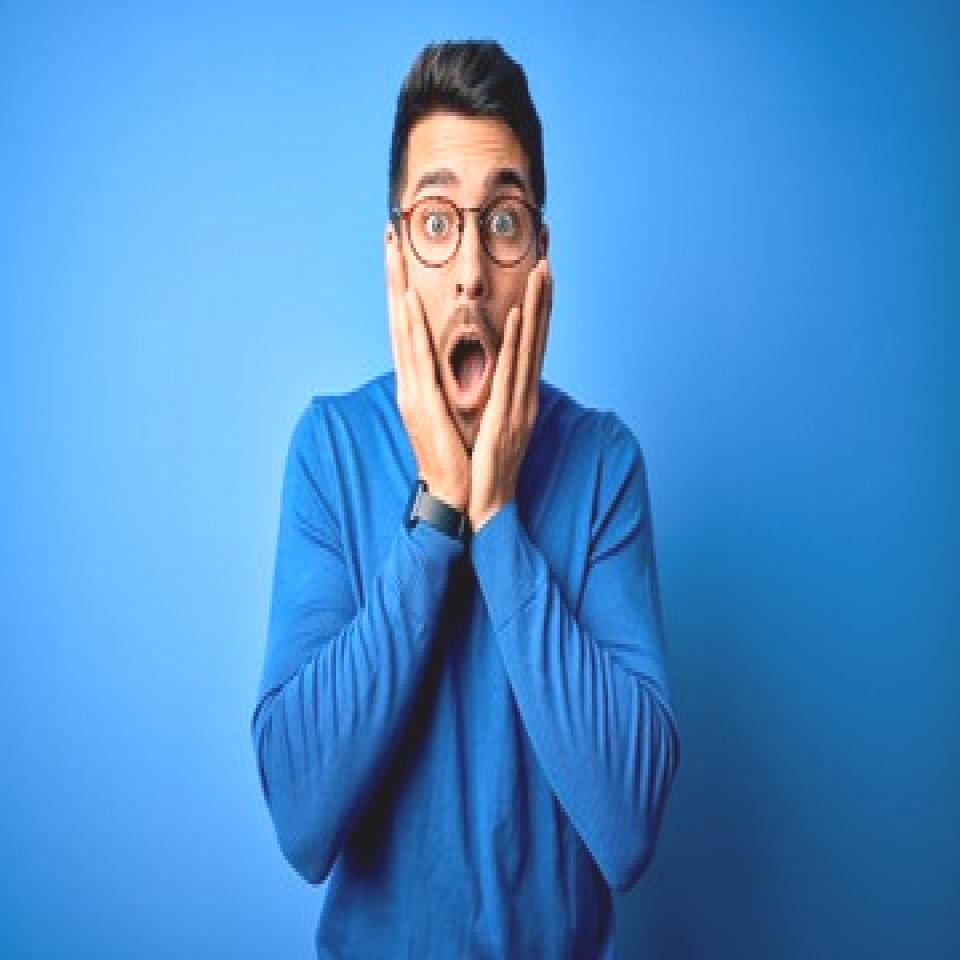Scared: (386, 123, 551, 524)
